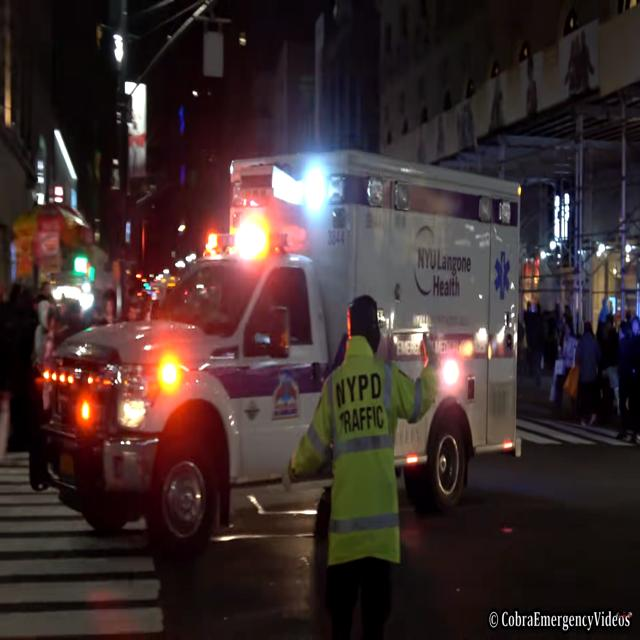emergency-vehicles: (23, 114, 540, 551)
